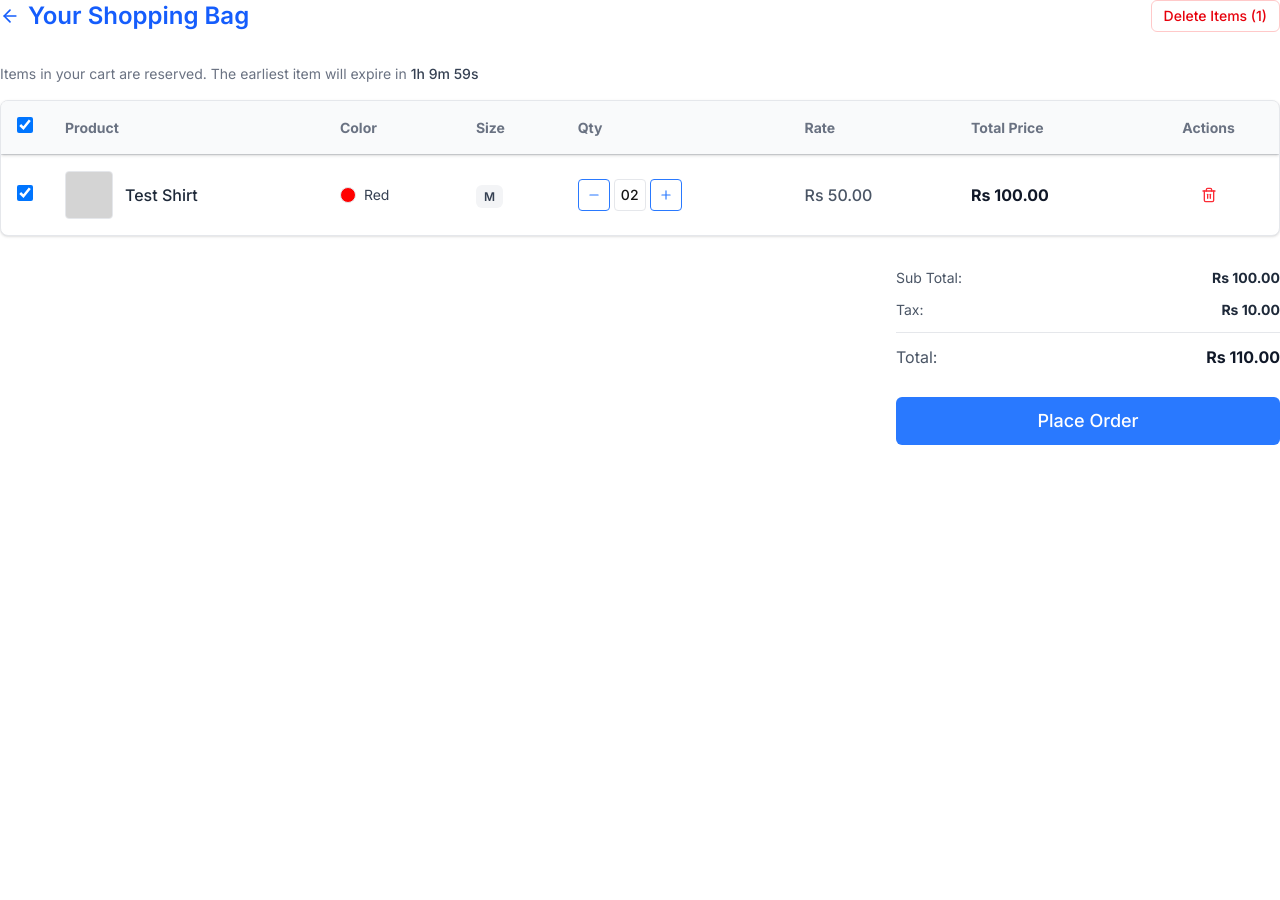
CartPage Client Component Tests › shows stock issue modal when validation detects issues
Check: the text "Test Shirt" is shown, box [125,183,198,207]
What coordinates should you click on to do the following:
click the button "Place Order"
I would click on:
 (1088, 421)
Its box is [896,397,1279,445].
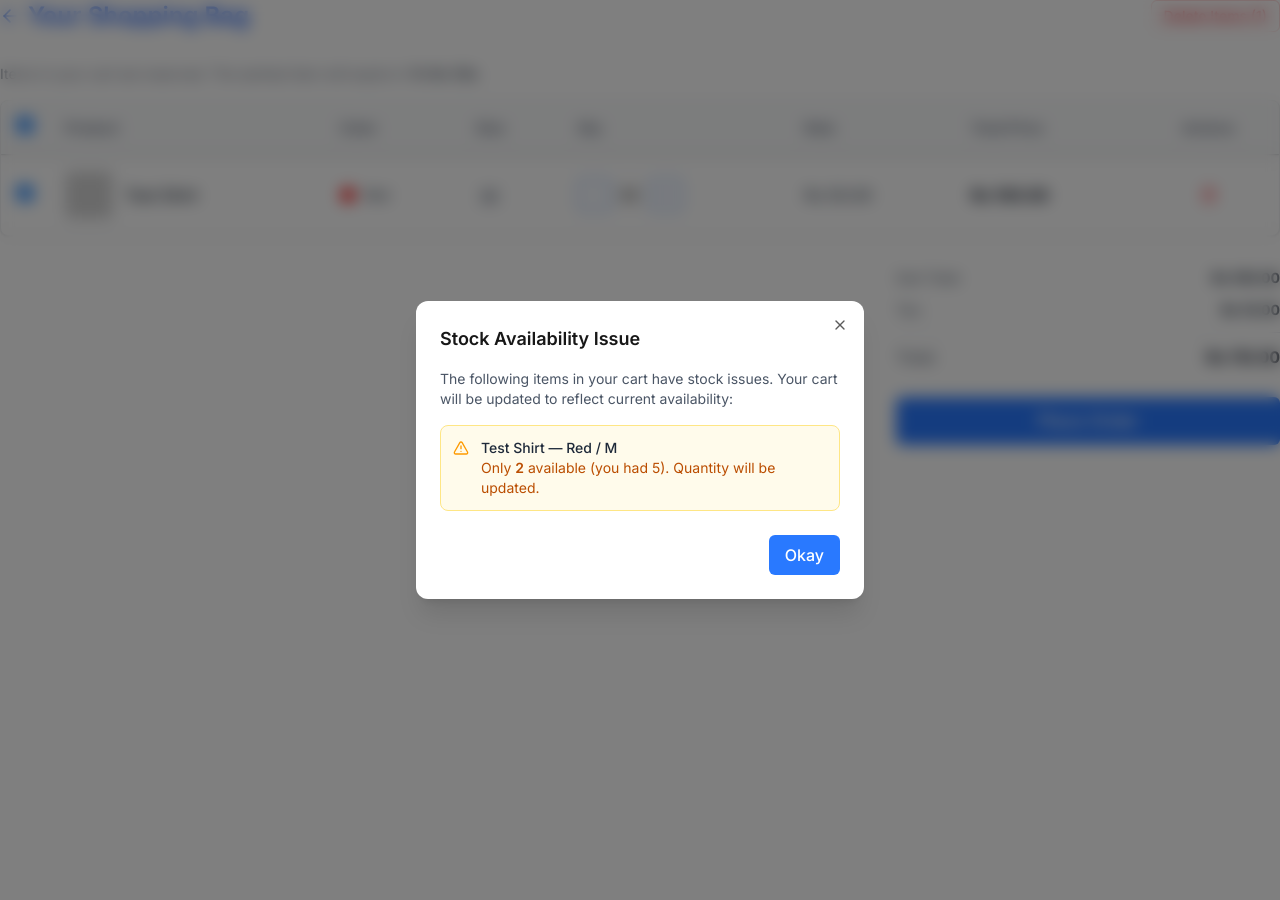
Check: the heading "Stock Availability Issue" is shown, box [440,328,640,349]
